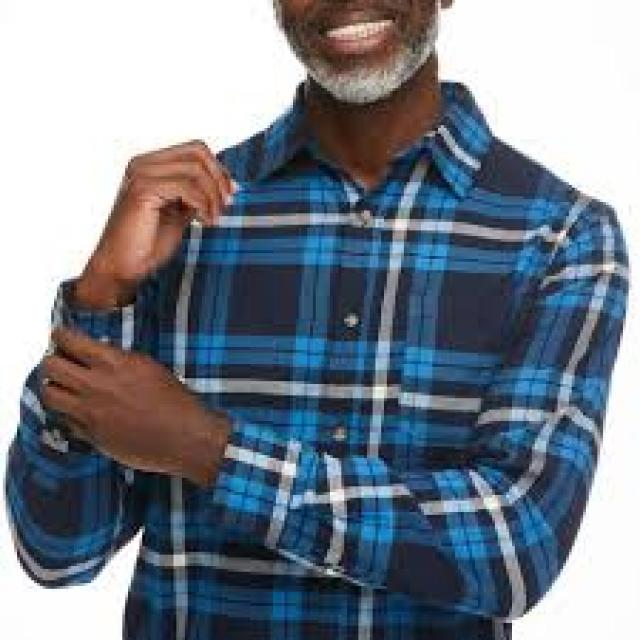plaid: (14, 103, 634, 639)
